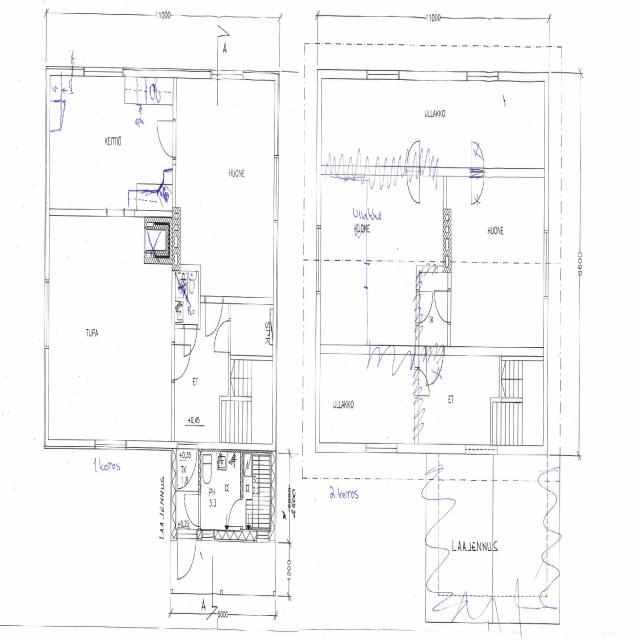door: (178, 530, 196, 580), (178, 440, 197, 487), (172, 344, 192, 380), (155, 121, 175, 157), (206, 297, 222, 338), (213, 321, 231, 352), (184, 495, 201, 526), (434, 291, 451, 321), (227, 499, 243, 526), (184, 324, 197, 356)
